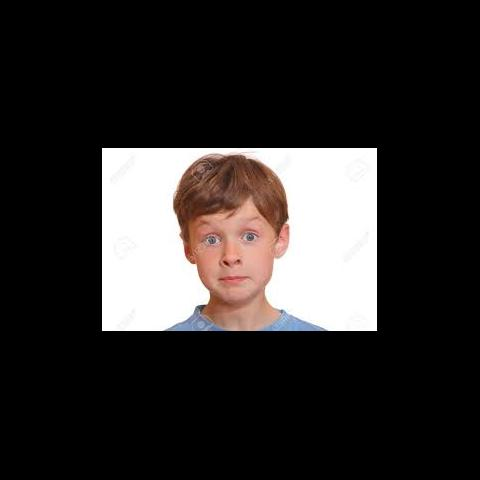opened: (197, 228, 266, 250)
